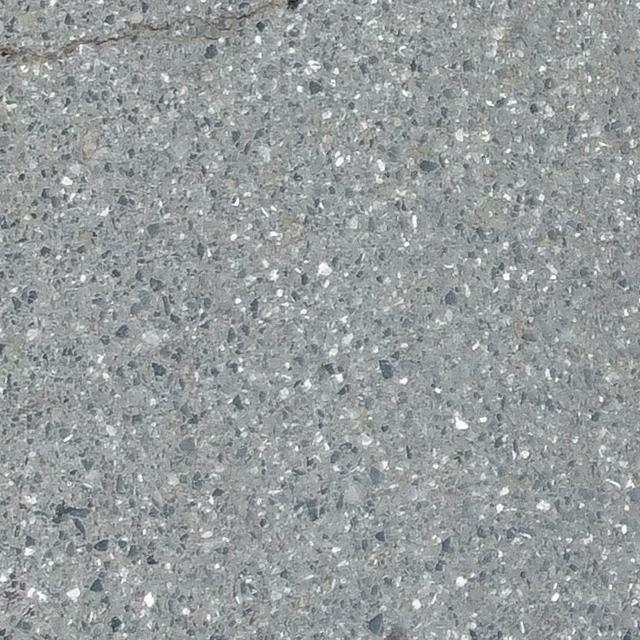TransverseCrack: (3, 1, 285, 65)
